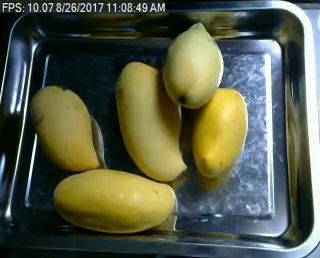Mango: (111, 58, 194, 183), (50, 169, 182, 233), (27, 81, 103, 167), (188, 86, 251, 179), (162, 20, 228, 108)
